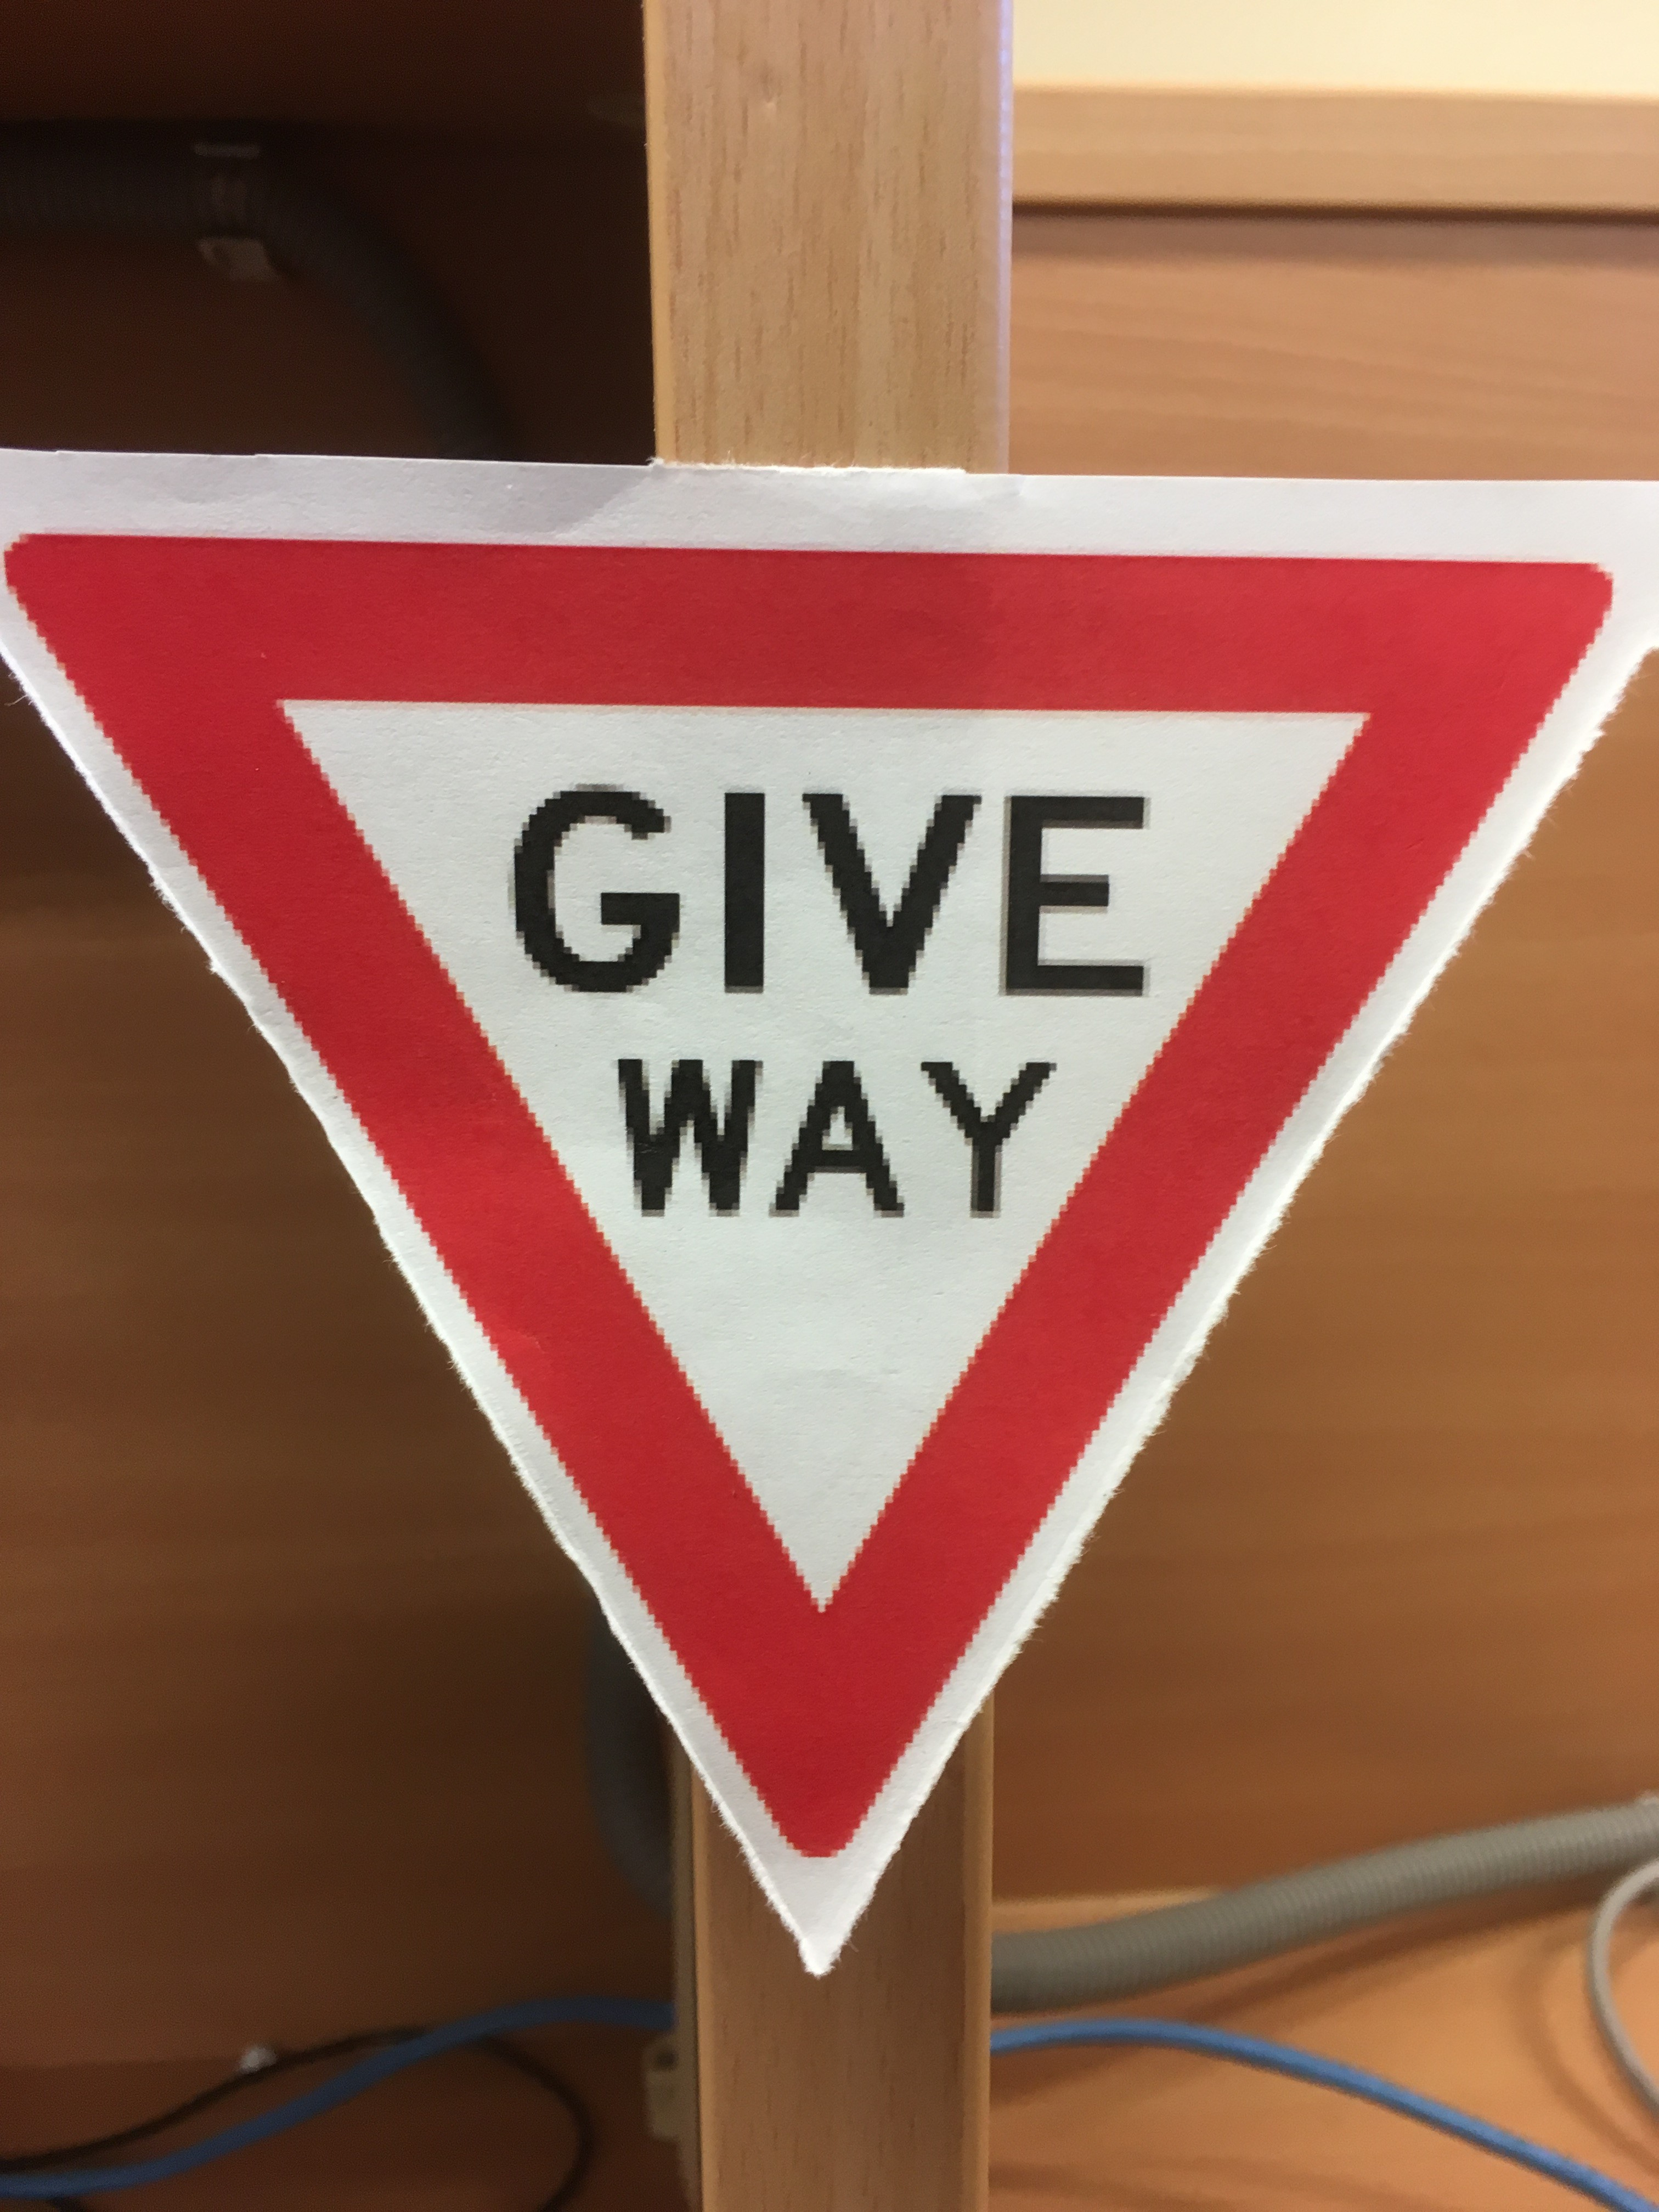giveway: (0, 529, 1608, 1900), (563, 310, 1150, 1958), (831, 523, 1504, 1926), (484, 597, 1178, 1676)
